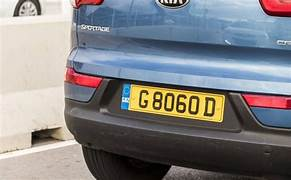number_plate: (122, 83, 225, 123)
